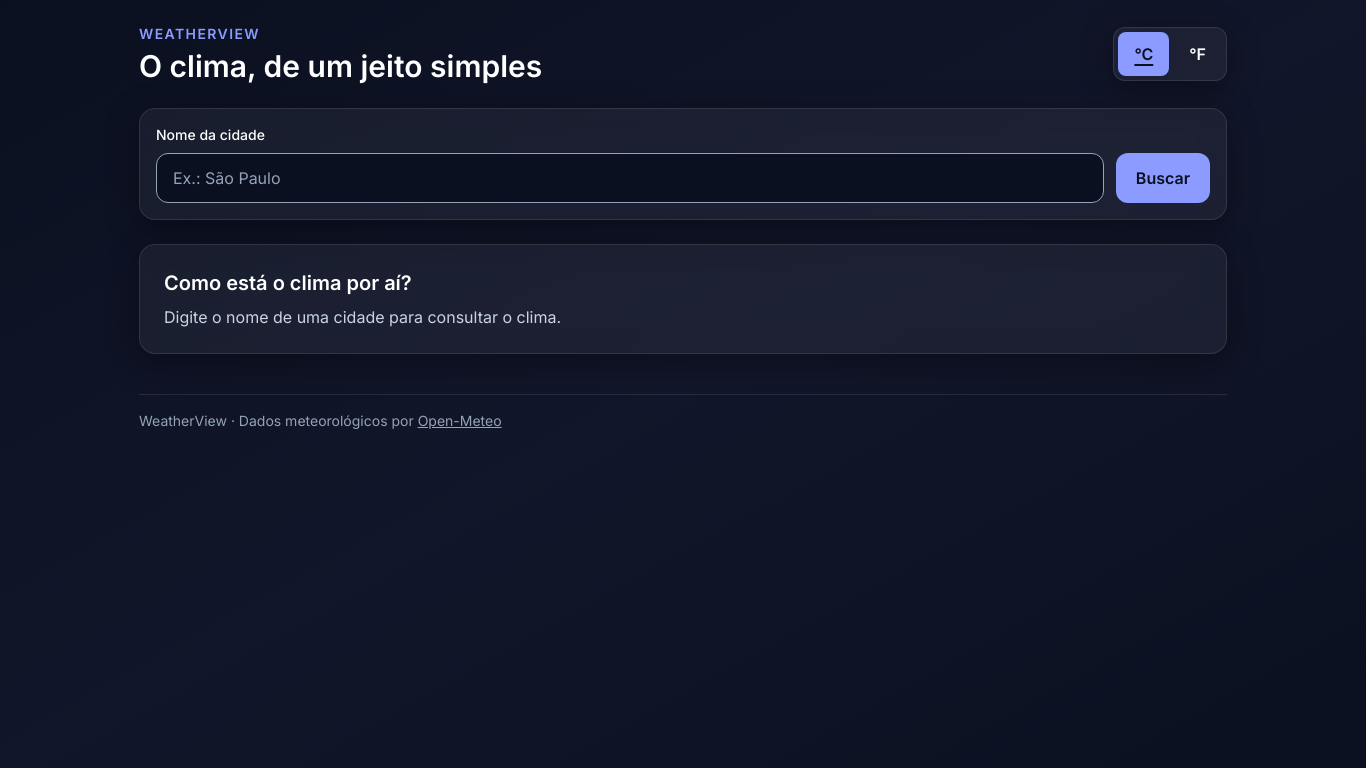
Scenario: App integrado › remove dados anteriores se uma nova consulta falhar, sem fallback para sucesso
In the search field: (630,178) [156, 153, 1104, 203], type "São Paulo"
Then press Enter
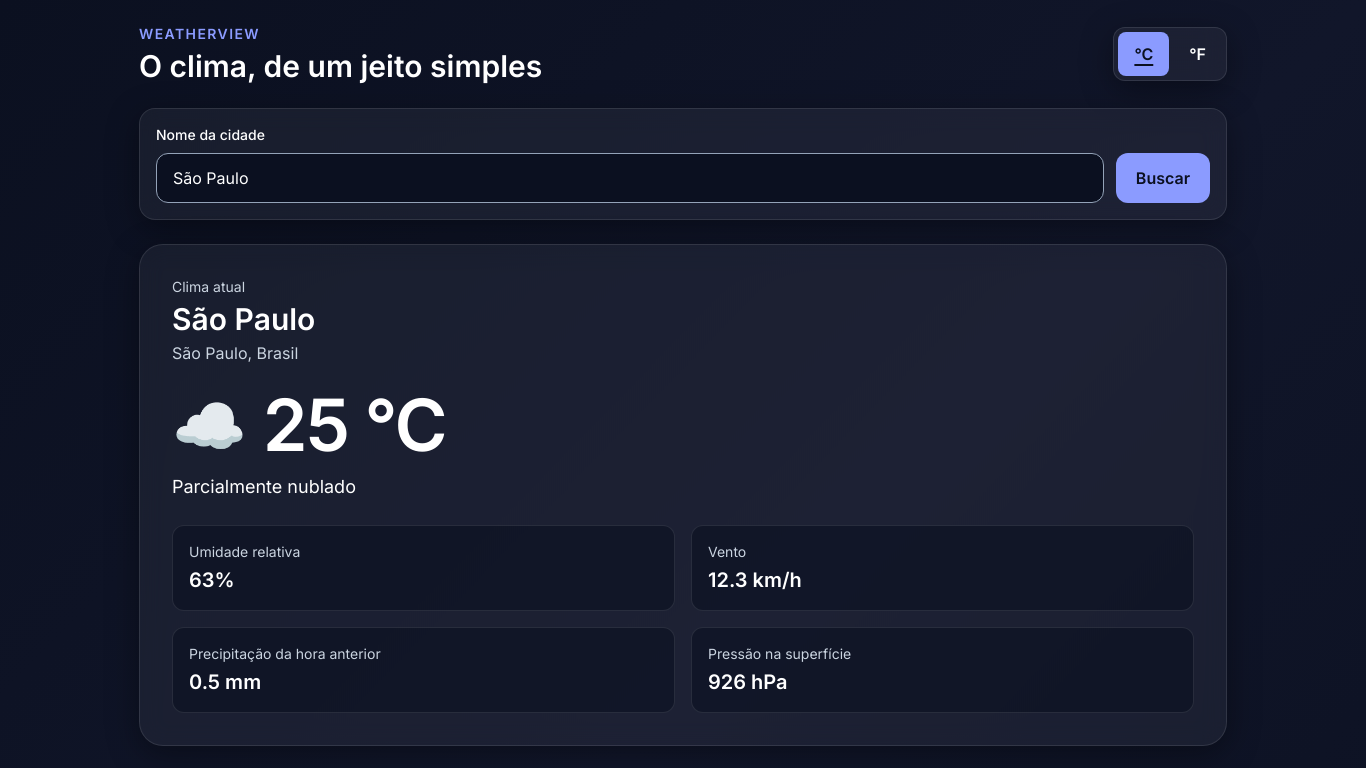
Expected: the element "São Paulo" is shown, [139, 244, 1227, 746]
Click the button "Buscar": (1163,178) [1116, 153, 1210, 203]
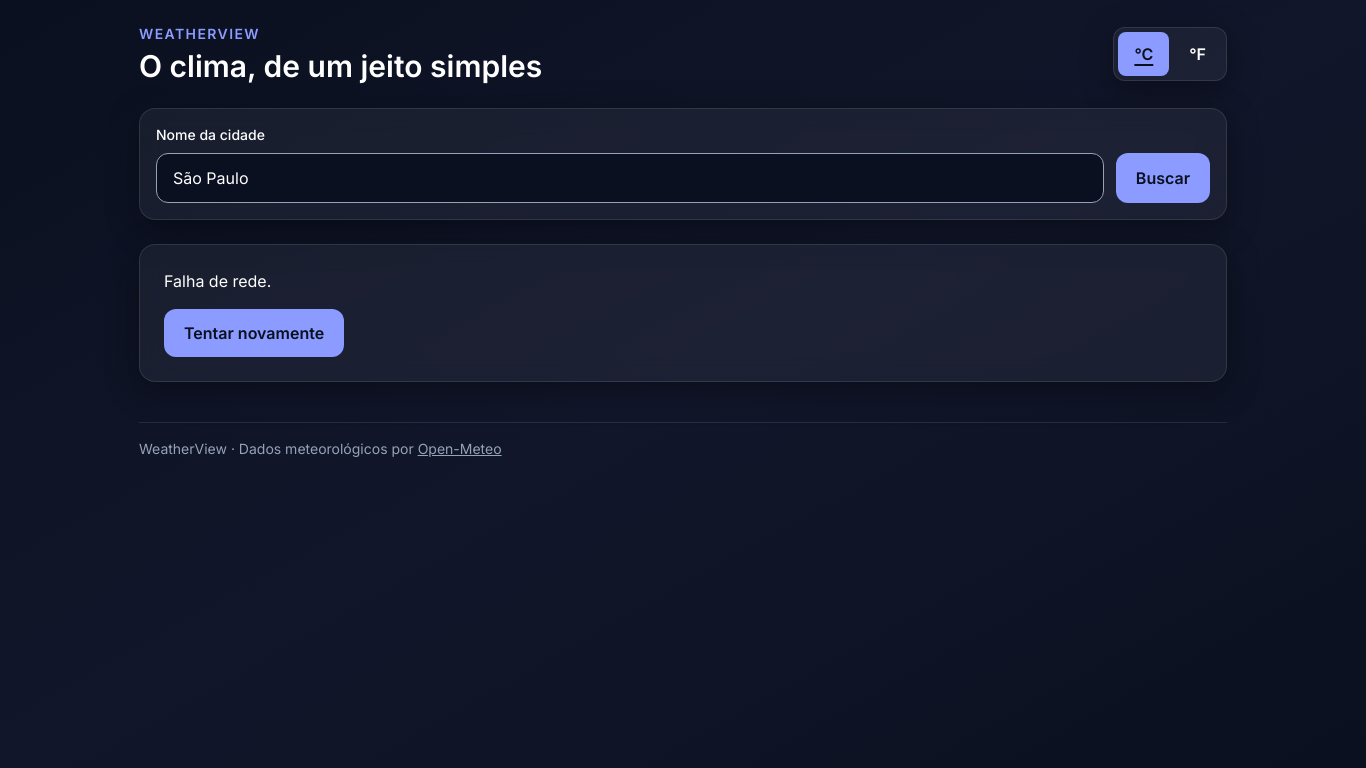
Expected: the message reads "Falha de rede.", [164, 271, 271, 291]
Expected: the button "Tentar novamente" is enabled, [164, 309, 344, 357]
